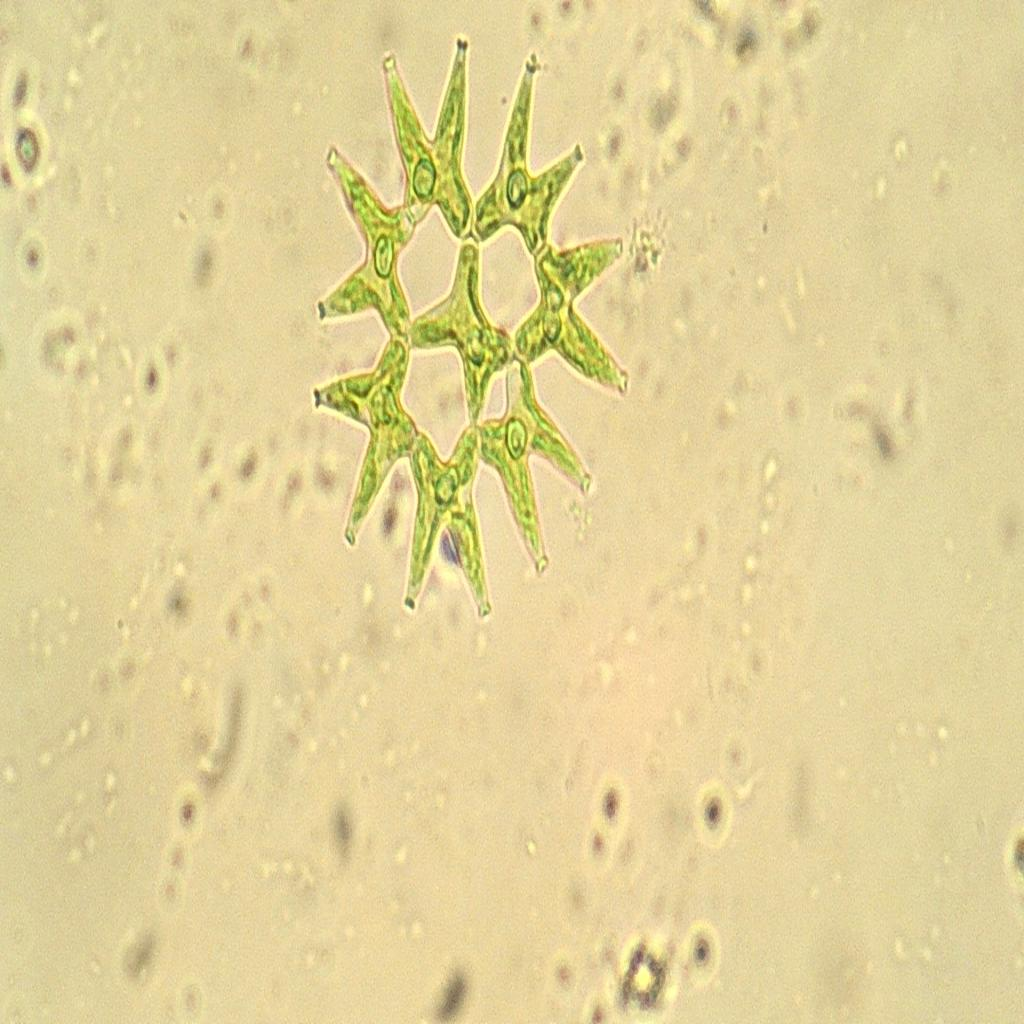Pediastrum_75T: (296, 15, 642, 636)
